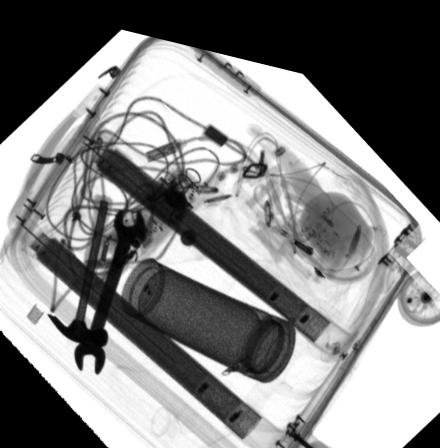Hammer: (43, 189, 115, 343)
Wrench: (73, 201, 146, 371)
